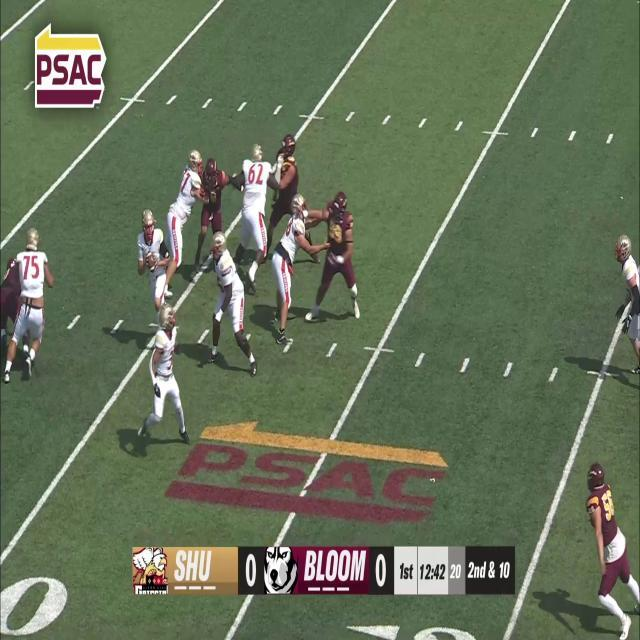football: (144, 249, 156, 271)
